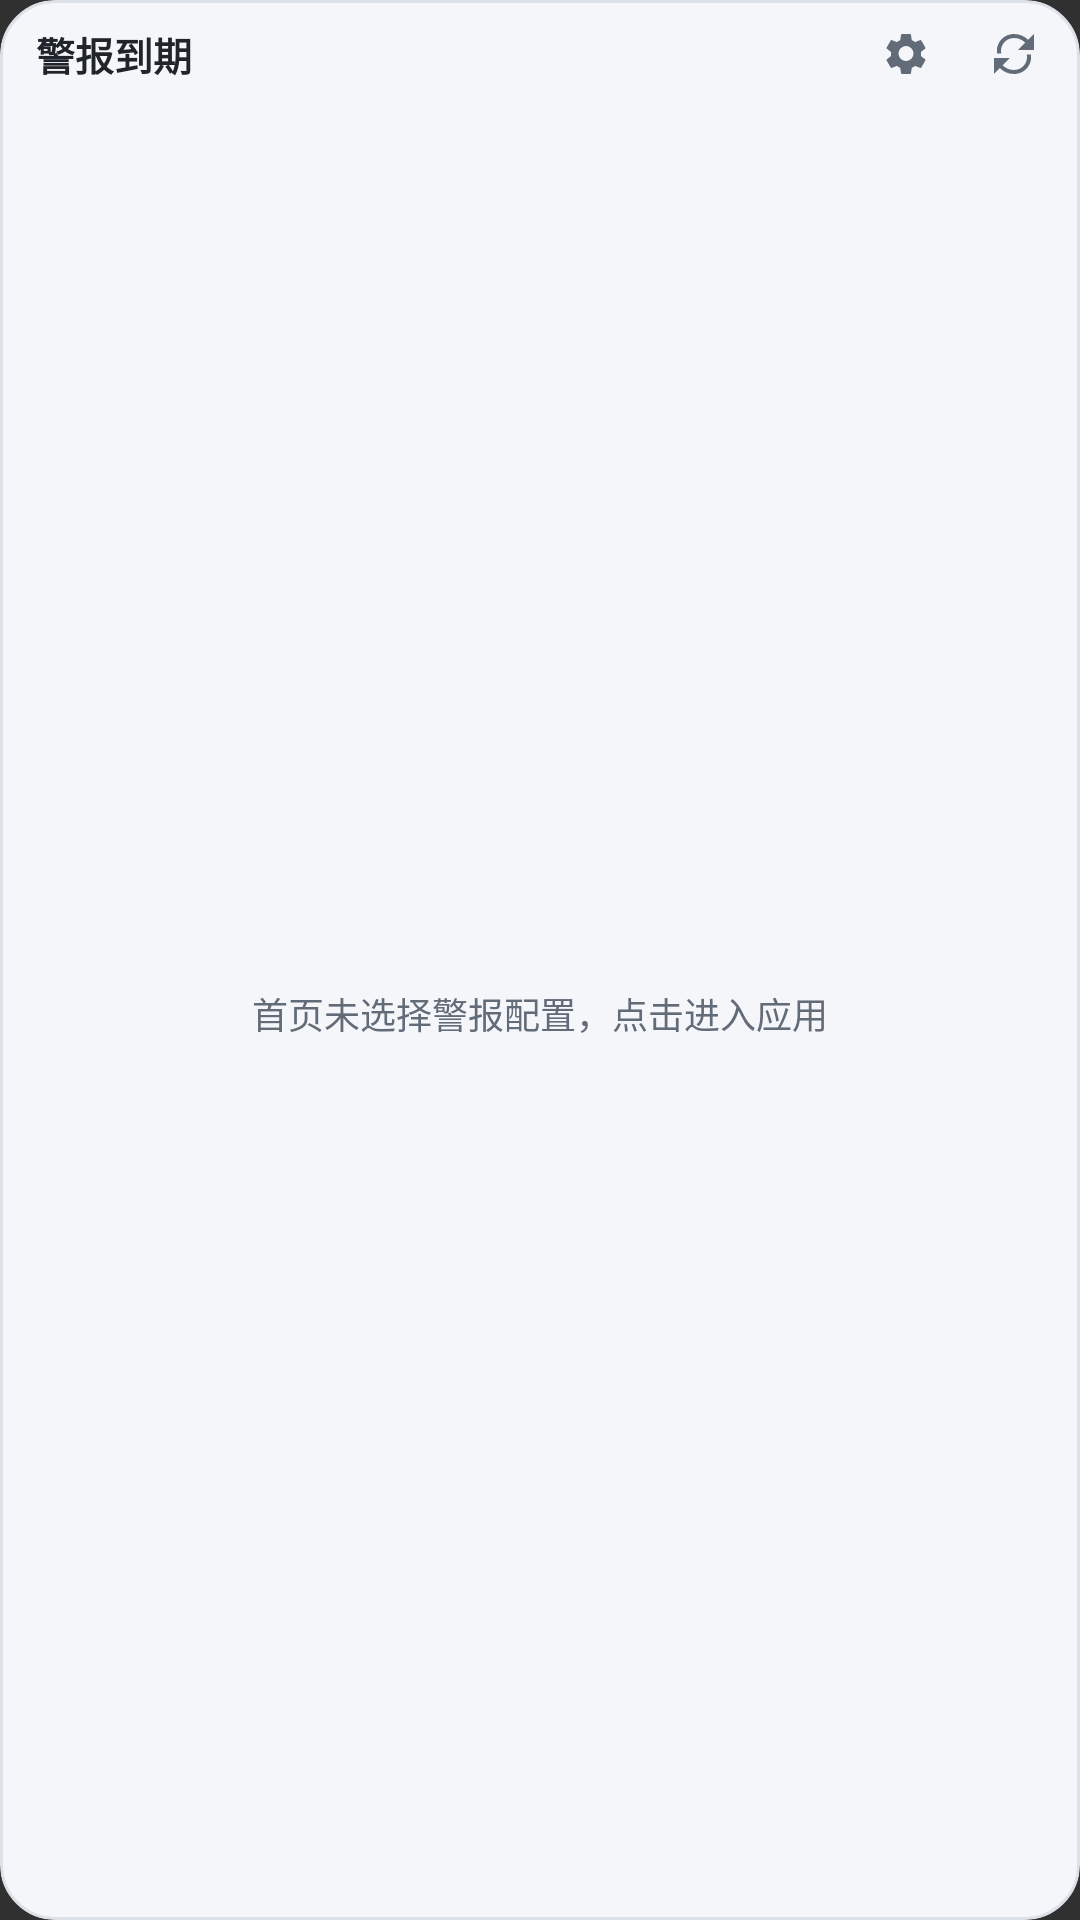

Locate icon controls on the screen. Image size 1080×1920, boxes as bbox=(x1, y1, x2, y2).
刷新警报列表: bbox=(994, 34, 1034, 74)
设置警报小组件的展示方式和行高: bbox=(886, 34, 926, 74)
